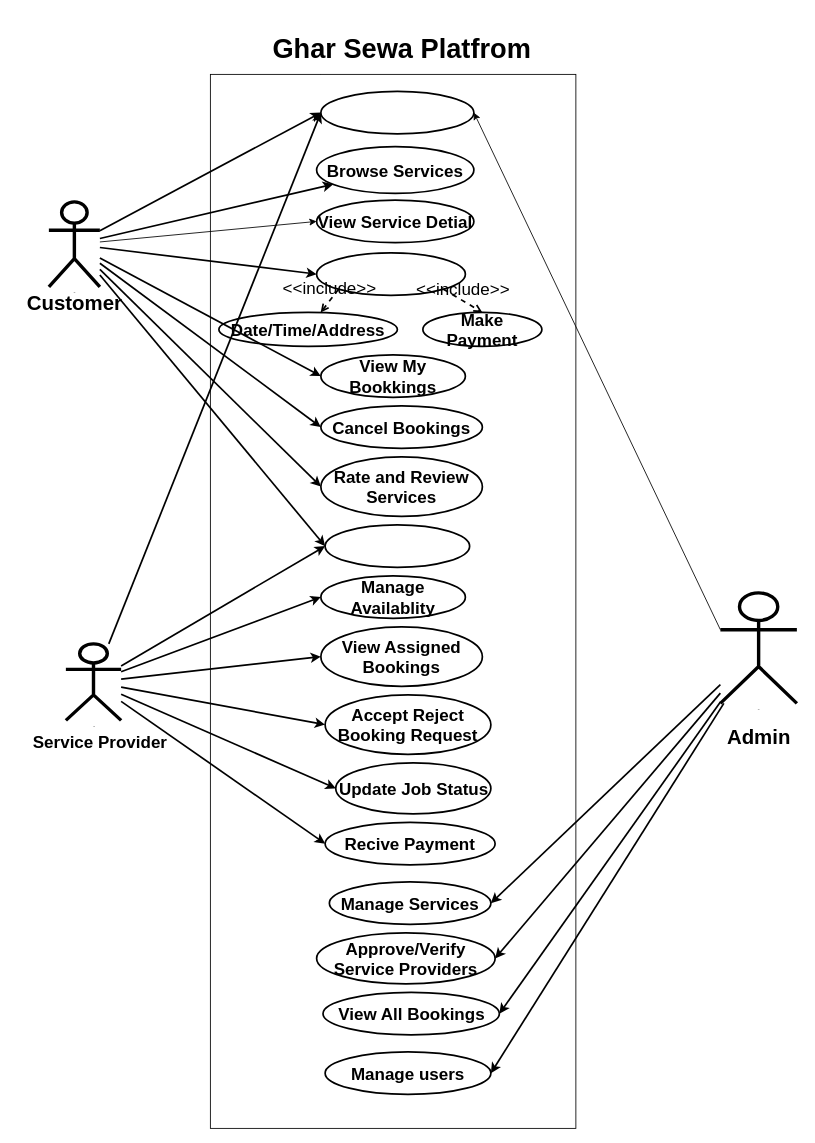
Image size: 815x1143. Some labels were removed from this diagram. Here are the shapes that lost their labels. From the top down, the box of each, then its label:
(320, 90, 474, 134): Register/Login
(315, 252, 466, 296): Book Services
(324, 524, 470, 568): Update Profile
